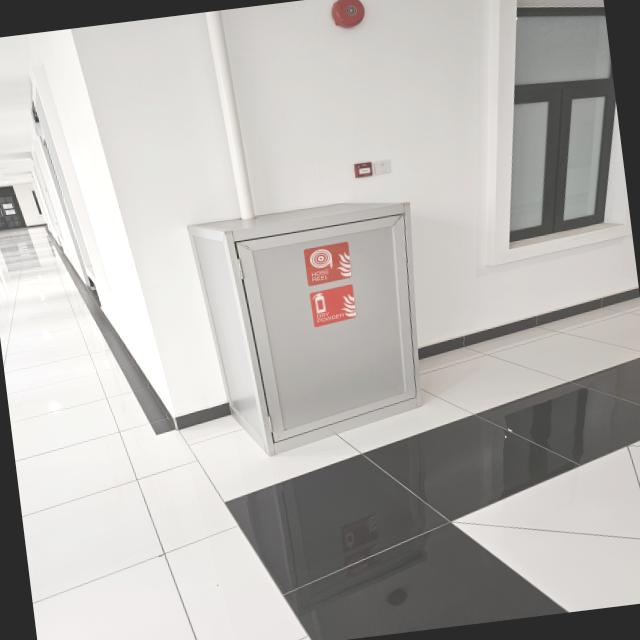footpath: (19, 413, 640, 640), (0, 269, 191, 640)
obstacle: (185, 193, 438, 462)
